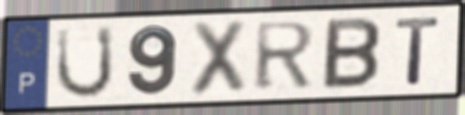9: (124, 22, 180, 99)
B: (319, 16, 384, 92)
R: (253, 19, 319, 93)
T: (393, 14, 444, 87)
U: (53, 23, 116, 101)
X: (186, 17, 250, 98)
